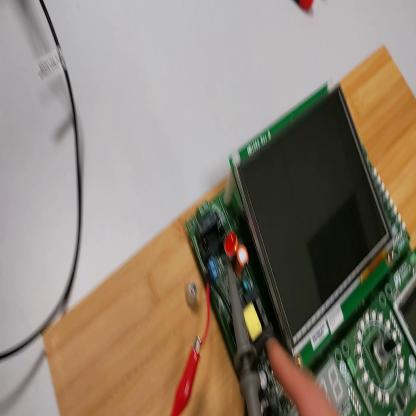hand: (268, 342, 336, 416)
low voltage board: (188, 75, 416, 414)
oscilloscope probe tip: (226, 257, 263, 415)
working area: (37, 40, 416, 416)
